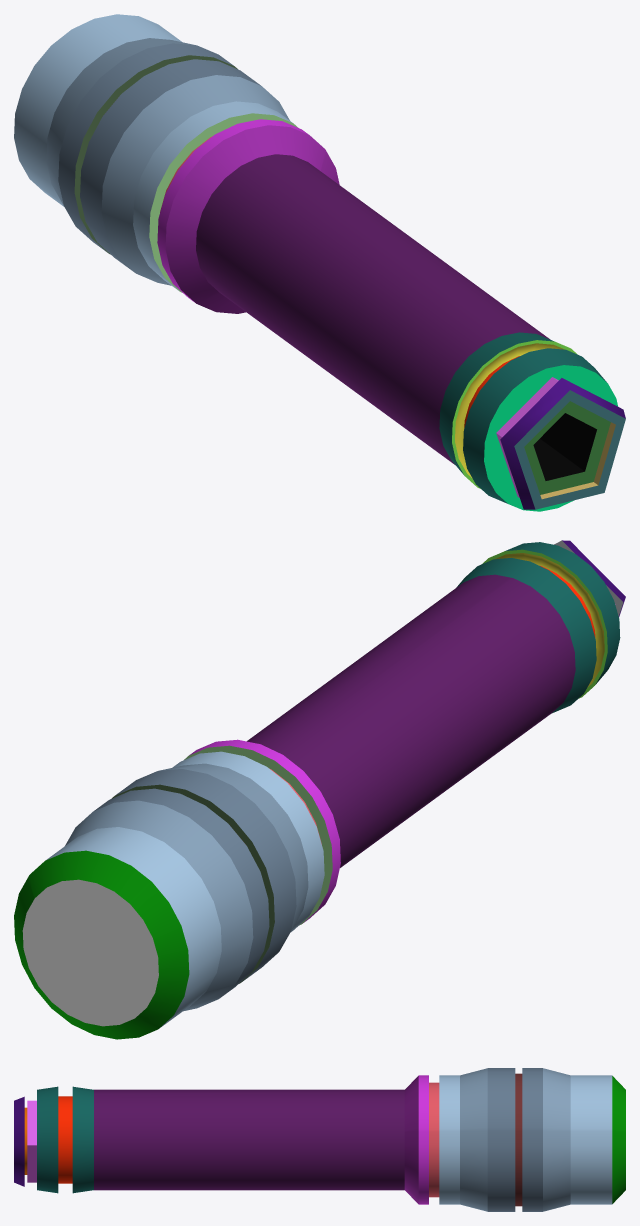
File: CenterCannonIter1Colored.fbx
3 views of the same model, one above another, from view 1: azimuth 30°, elevation 25°; view 2: azimuth 150°, elevation 25°; view 3: azimuth 270°, elevation 25° (orthographic). The views are drawn at different scales.
Parts seen in each view (by area): view 1: Model; view 2: Model; view 3: Model.
Boxes of the visible parts, x1,y1,x2,y2 form: Model: (14, 14, 625, 511); Model: (14, 540, 625, 1039); Model: (14, 1068, 625, 1211).
Bounding box in the file's own units: 126 × 126 × 535.
